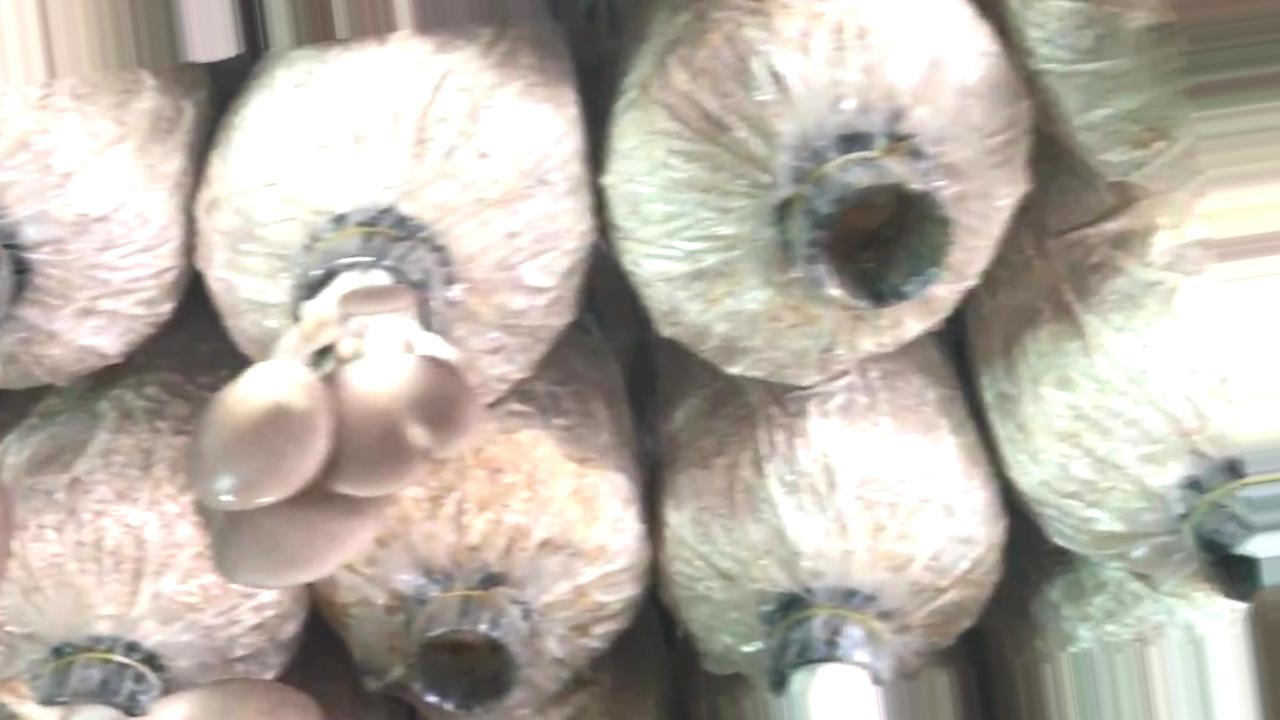nam: (192, 223, 474, 592)
